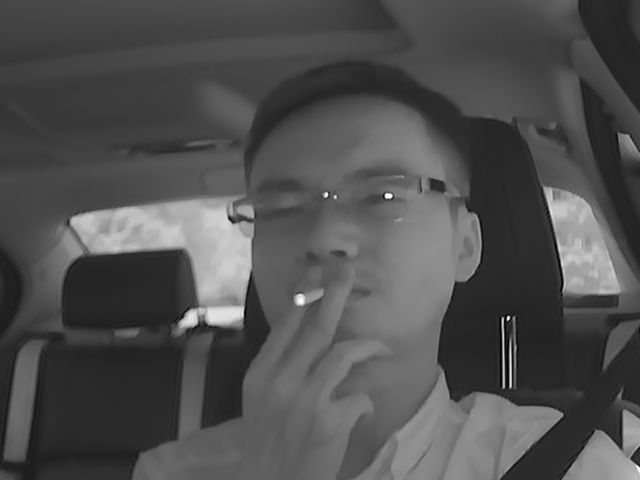hand: (250, 267, 390, 426)
